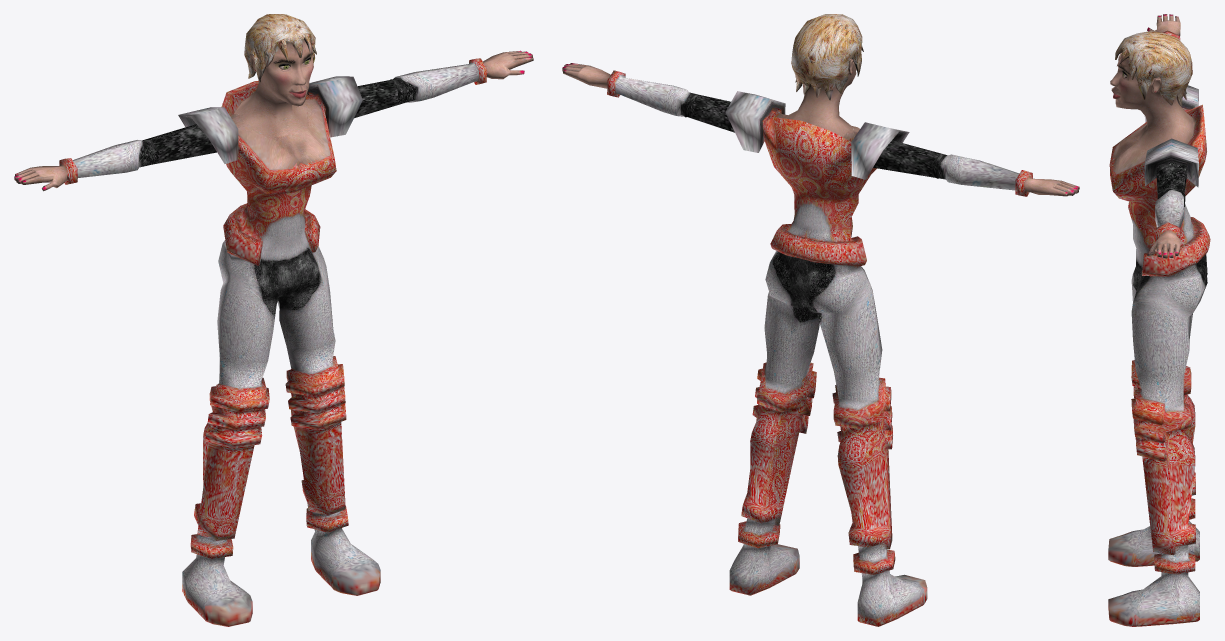
File: Terraquea(NOFUNCIONA).DAE
3 renders of one model, left to right at view 1: azimuth 30°, elevation 25°; view 2: azimuth 150°, elevation 25°; view 3: azimuth 270°, elevation 25°, orthographic. The views are drawn at different scales.
Parts seen in each view (by area): view 1: humana001; view 2: humana001; view 3: humana001.
Part boxes in pixels (x1,y1,x2,y2): humana001: (14,14,533,626); humana001: (562,14,1079,626); humana001: (1108,14,1210,626).
Size of the model in its own units: 2.41 by 0.4324 by 2.58.
